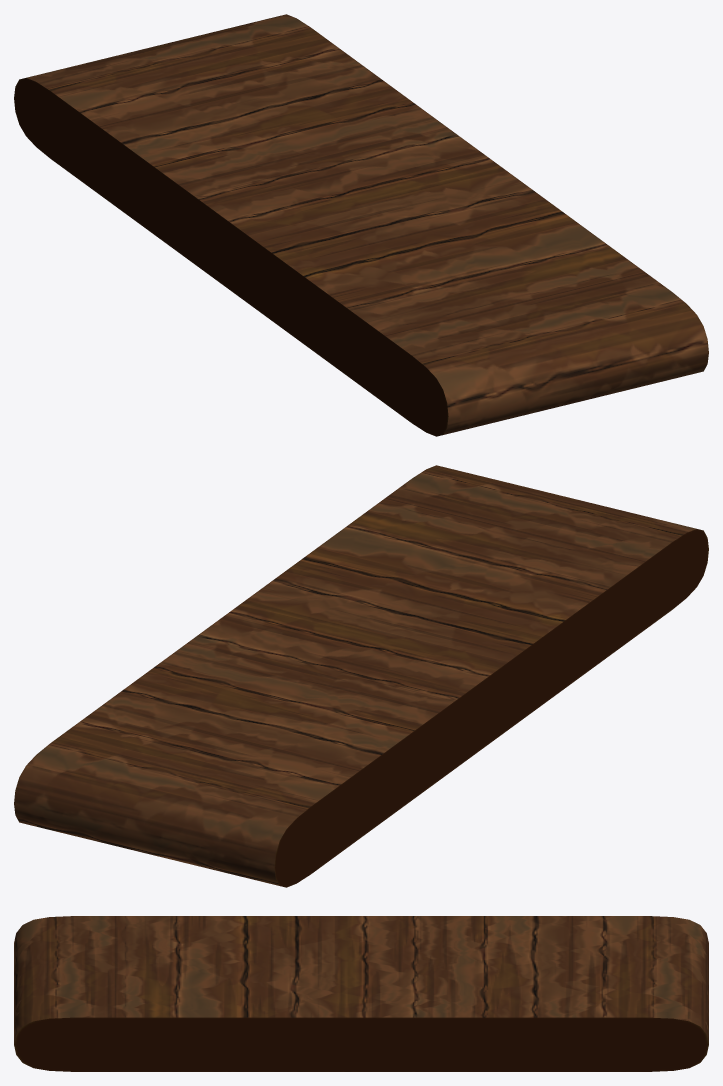
The model's file is Balista_Tartak_Kamieniolom.fbx.
3 views of the same model, one above another, from view 1: azimuth 30°, elevation 25°; view 2: azimuth 150°, elevation 25°; view 3: azimuth 270°, elevation 25° (orthographic). The views are drawn at different scales.
Parts seen in each view (by area): view 1: Cylinder.009_Baked; view 2: Cylinder.009_Baked; view 3: Cylinder.009_Baked.
Boxes of the visible parts, x1,y1,x2,y2 form: Cylinder.009_Baked: (14, 14, 708, 436); Cylinder.009_Baked: (14, 465, 708, 887); Cylinder.009_Baked: (14, 916, 708, 1071).
Size of the model in its own units: 66.83 by 16.61 by 193.
1 material, 1 textured.
